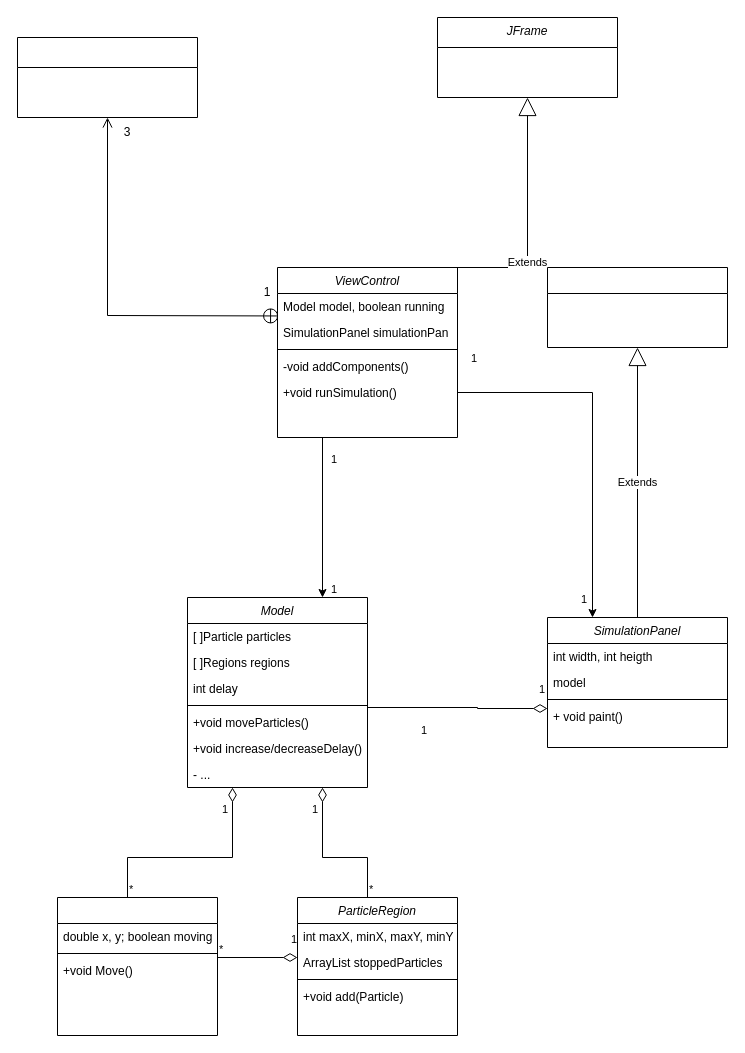
Image size: 745x1053. Some labels were removed from this diagram. Each missing label, with the box of its shape:
anonymous ActionListener: (16, 36, 198, 118)
JPanel: (546, 266, 728, 348)
Particle: (56, 896, 218, 1036)
